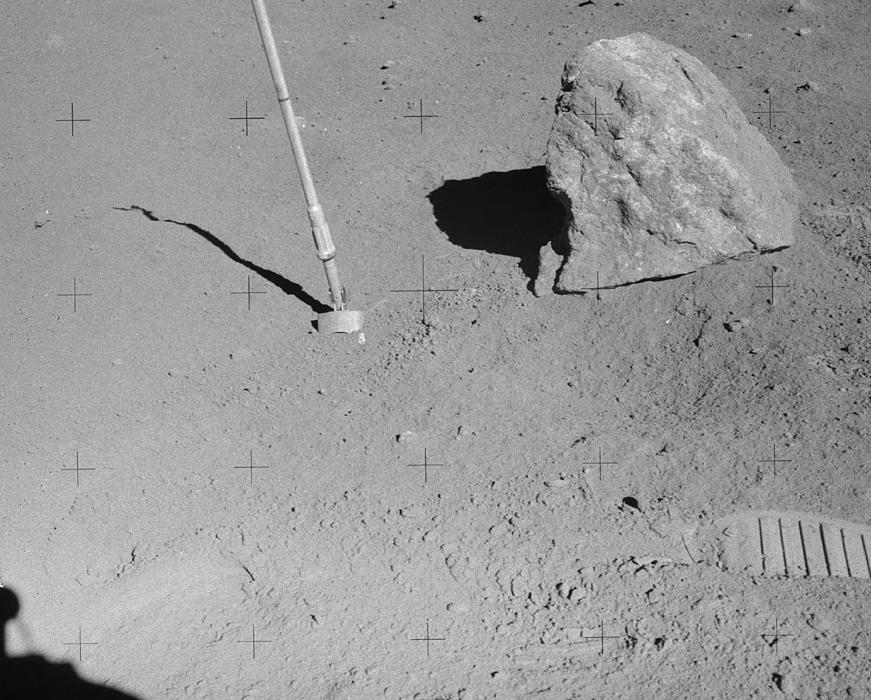rock: (534, 34, 798, 295)
